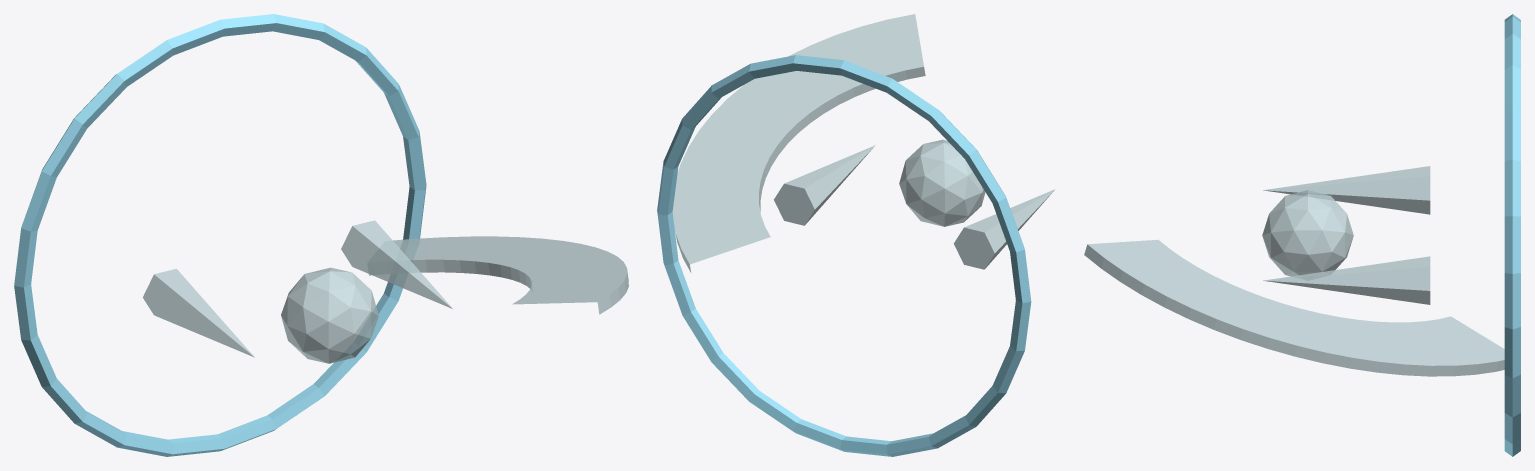
Rendered from 01_special_attack_vfx.glb.
The picture shows the model from 3 angles, left to right: view 1: azimuth 30°, elevation 25°; view 2: azimuth 150°, elevation 25°; view 3: azimuth 270°, elevation 25°; orthographic projection. The views are drawn at different scales.
Visible parts, largest first — view 1: impact_window_ring, combo_slash_or_magic_arc, timing_core, telegraph_spike_b, telegraph_spike_a; view 2: combo_slash_or_magic_arc, impact_window_ring, timing_core, telegraph_spike_b, telegraph_spike_a; view 3: combo_slash_or_magic_arc, impact_window_ring, timing_core, telegraph_spike_b, telegraph_spike_a.
Part boxes in pixels (x1=…): impact_window_ring: x1=14, y1=14, x2=426, y2=456; combo_slash_or_magic_arc: x1=368, y1=236, x2=628, y2=314; timing_core: x1=281, y1=267, x2=378, y2=363; telegraph_spike_b: x1=341, y1=220, x2=452, y2=308; telegraph_spike_a: x1=143, y1=269, x2=254, y2=357; combo_slash_or_magic_arc: x1=672, y1=14, x2=925, y2=272; impact_window_ring: x1=657, y1=55, x2=1031, y2=456; timing_core: x1=899, y1=139, x2=985, y2=226; telegraph_spike_b: x1=774, y1=145, x2=875, y2=225; telegraph_spike_a: x1=953, y1=189, x2=1055, y2=269; combo_slash_or_magic_arc: x1=1084, y1=239, x2=1504, y2=376; impact_window_ring: x1=1504, y1=14, x2=1520, y2=456; timing_core: x1=1262, y1=190, x2=1353, y2=276; telegraph_spike_b: x1=1263, y1=256, x2=1430, y2=304; telegraph_spike_a: x1=1263, y1=166, x2=1430, y2=214.
Bounding box in the file's own units: 1.65 × 1.46 × 1.43.
